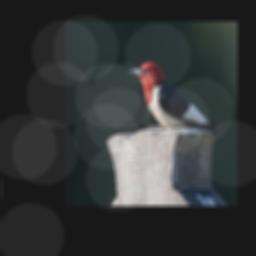Woodpecker: (124, 59, 226, 144)
